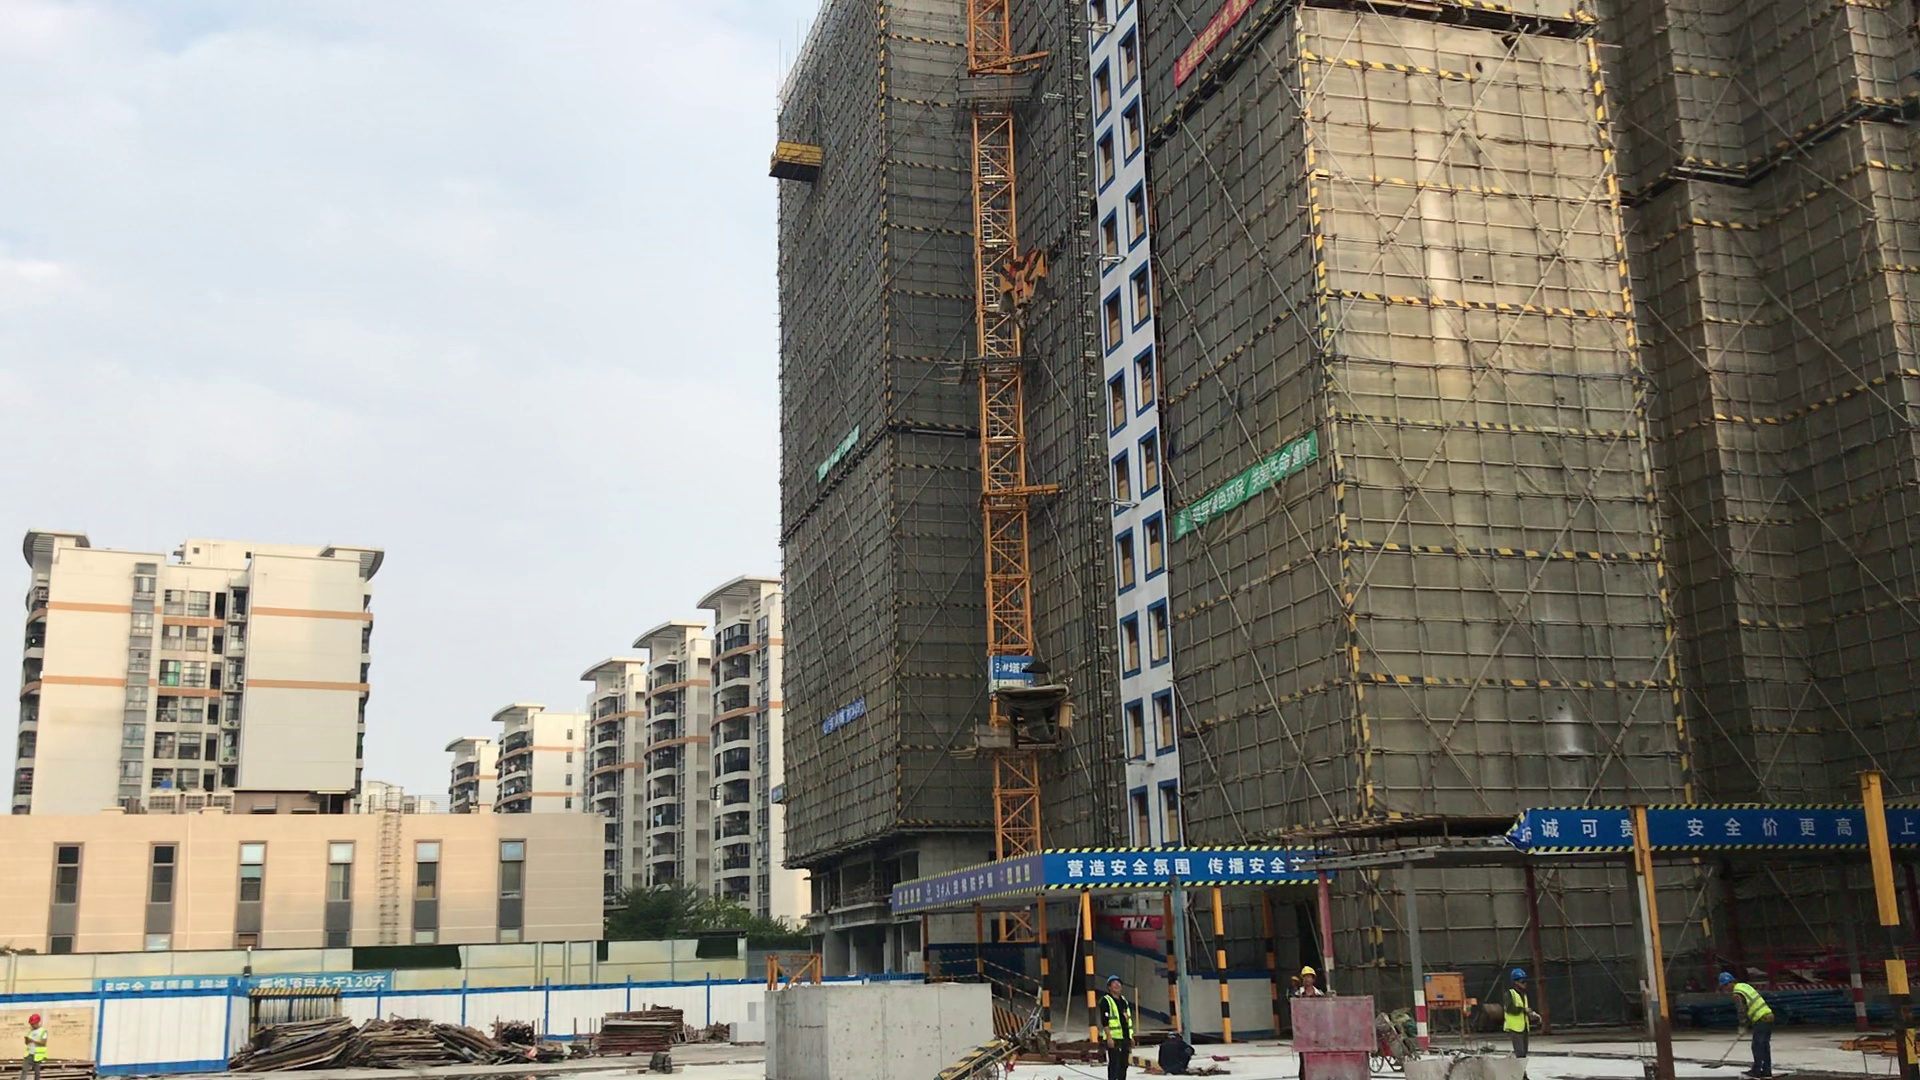ebox: (1423, 971, 1467, 1010)
fence: (1702, 938, 1920, 989)
handcart: (1366, 1008, 1430, 1072)
helmet: (1715, 970, 1739, 992), (1507, 968, 1529, 981), (1297, 965, 1318, 976), (27, 1013, 44, 1025), (1105, 974, 1123, 985)
hook: (990, 244, 1063, 313)
hopper: (1400, 1057, 1532, 1080)
person: (1702, 969, 1798, 1073), (1086, 971, 1147, 1079), (1496, 964, 1549, 1063), (12, 1006, 59, 1078), (1289, 965, 1327, 1003)
slogan: (1525, 804, 1920, 857), (1175, 430, 1321, 541), (94, 963, 389, 1001), (893, 852, 1042, 918), (1044, 852, 1315, 888), (816, 428, 856, 484), (823, 702, 866, 736)
vest: (1101, 995, 1134, 1040), (1502, 989, 1532, 1034), (1736, 989, 1772, 1021), (24, 1029, 44, 1061)
